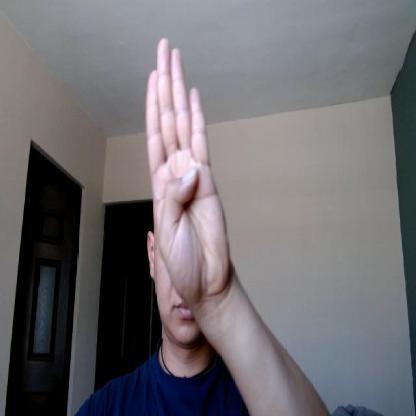B: (146, 38, 231, 294)
